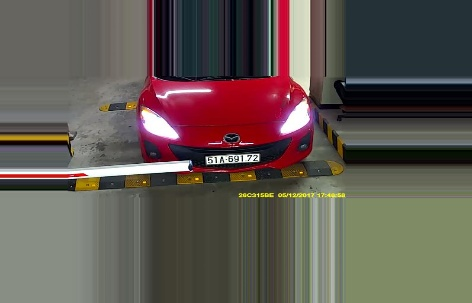plate: (204, 151, 260, 165)
